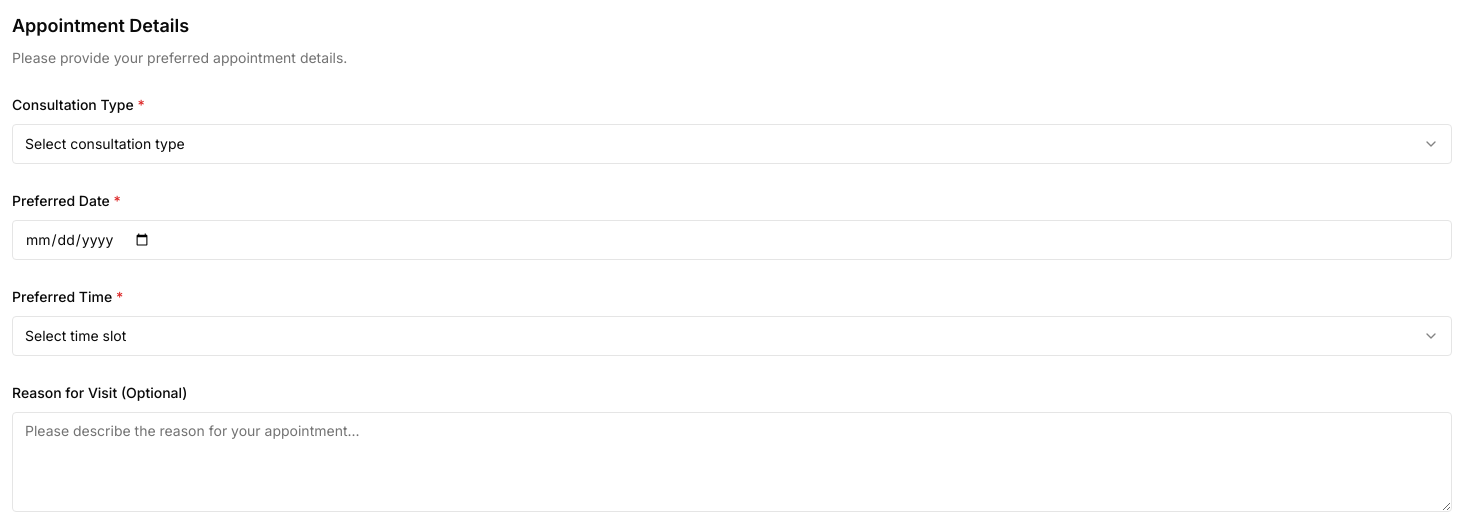
Test: AppointmentDetailsStep › renders consultation type dropdown with options
Click the dropdown labelled "Select consultation type": (105, 144) [12, 124, 1452, 164]
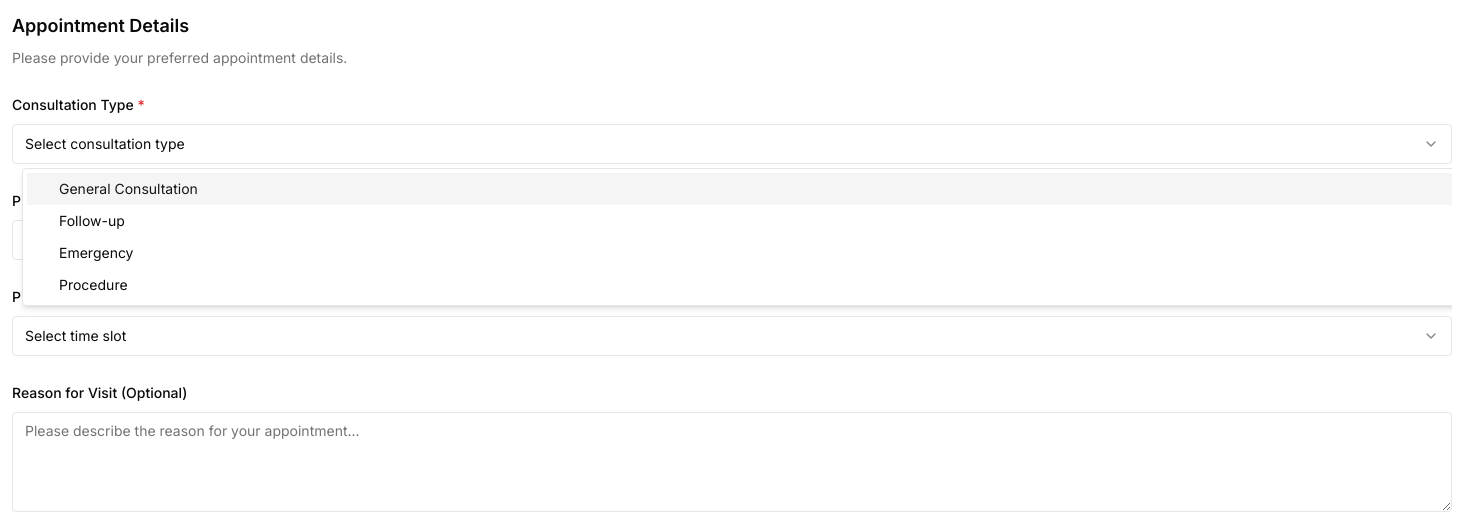
Check: the option "Follow-up" is shown, box [59, 212, 125, 229]
Check: the option "Emergency" is shown, box [59, 244, 134, 261]
Check: the option "Procedure" is shown, box [59, 276, 128, 293]
